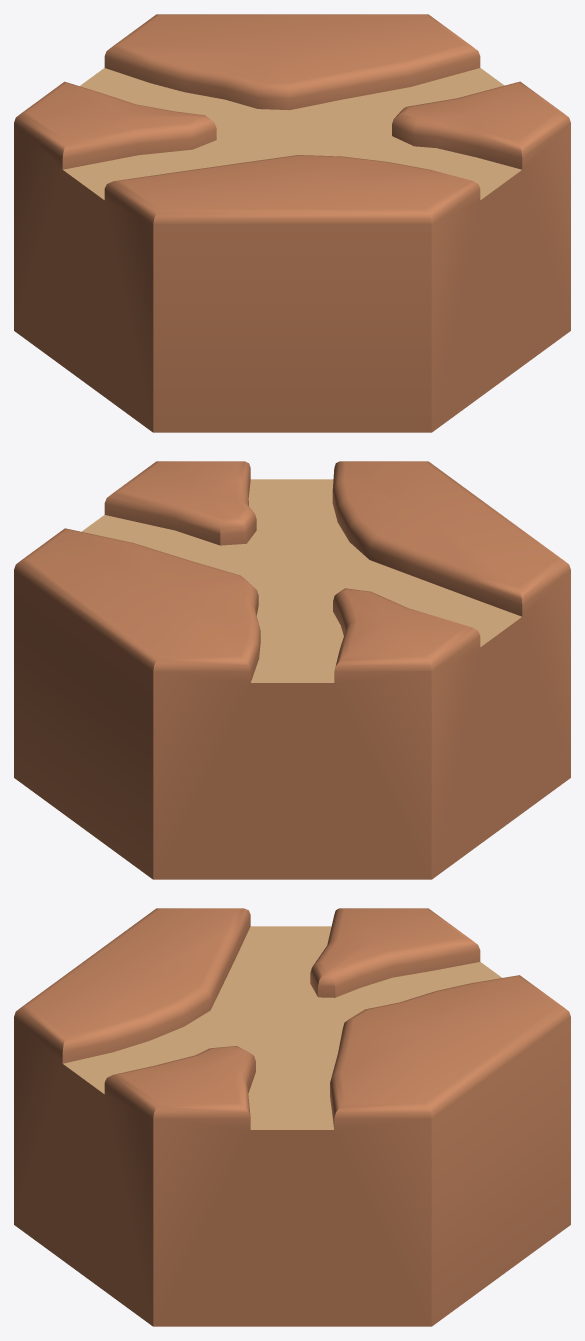
The model's file is hex_rock_roadJ.glb.
3 views of the same model, one above another, from view 1: azimuth 30°, elevation 25°; view 2: azimuth 150°, elevation 25°; view 3: azimuth 270°, elevation 25° (orthographic).
Visible parts, largest first — view 1: hex_rock_roadJ; view 2: hex_rock_roadJ; view 3: hex_rock_roadJ.
Part boxes in pixels (box(x1,y1,x2,y2)): hex_rock_roadJ: box(14, 14, 570, 432); hex_rock_roadJ: box(14, 461, 570, 879); hex_rock_roadJ: box(14, 908, 570, 1326).
Size of the model in its own units: 3.43 by 1.72 by 3.96.
